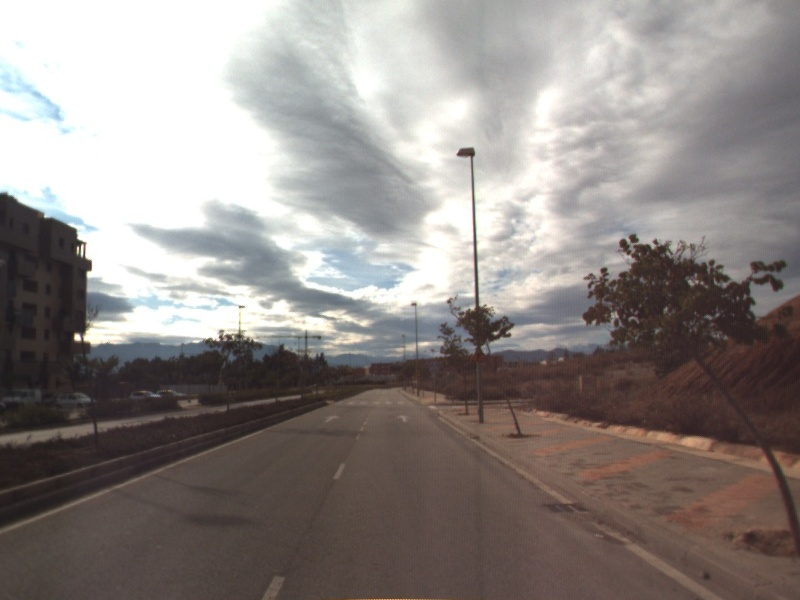STRAIGHT: (321, 413, 342, 424), (394, 412, 413, 424)
